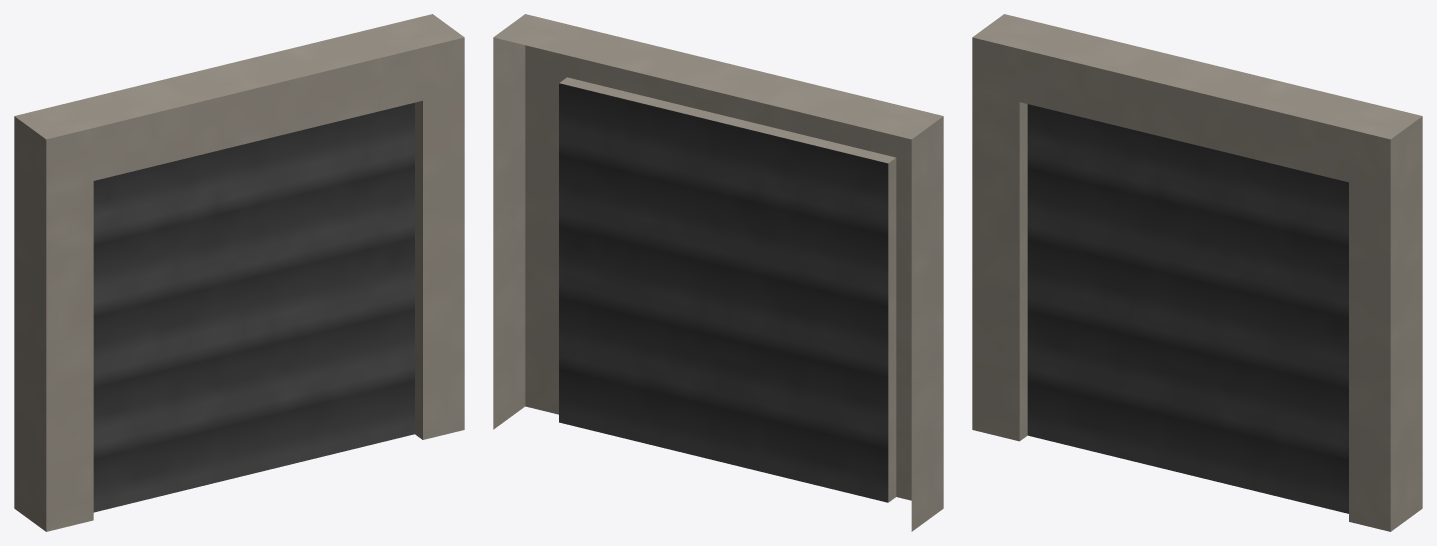
File: Garage_Door.fbx
3 renders of one model, left to right at view 1: azimuth 30°, elevation 25°; view 2: azimuth 150°, elevation 25°; view 3: azimuth 330°, elevation 25°, orthographic.
Visible parts, largest first — view 1: Garage_Door; view 2: Garage_Door; view 3: Garage_Door.
Boxes of the visible parts, left/top/right/bottom form: Garage_Door: left=14, top=14, right=464, bottom=531; Garage_Door: left=493, top=14, right=943, bottom=531; Garage_Door: left=972, top=14, right=1422, bottom=531.
Size of the model in its own units: 75.48 by 67.66 by 10.
1 material, 1 textured.
